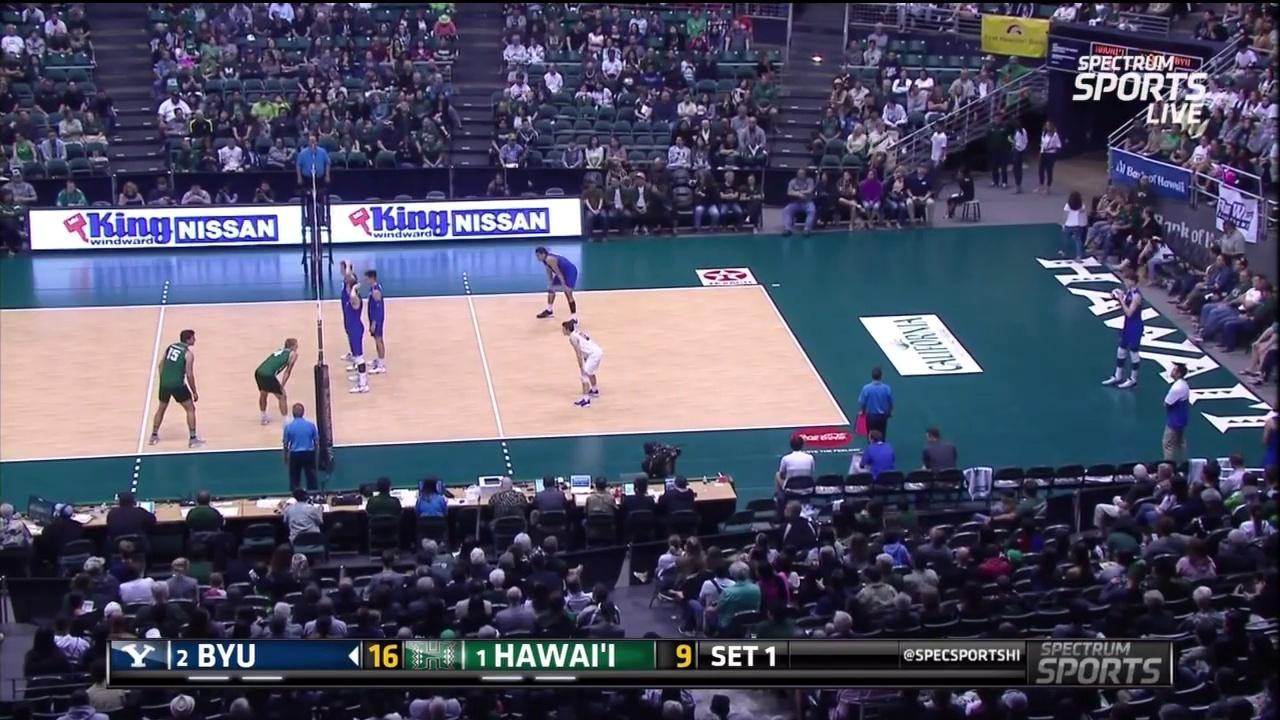player: (143, 331, 201, 447), (340, 278, 378, 401), (251, 336, 302, 423), (1105, 273, 1142, 390), (562, 315, 601, 405), (334, 257, 365, 369), (535, 246, 582, 319), (361, 266, 389, 374)
refree: (859, 364, 899, 455), (281, 403, 321, 489), (296, 134, 332, 227)
